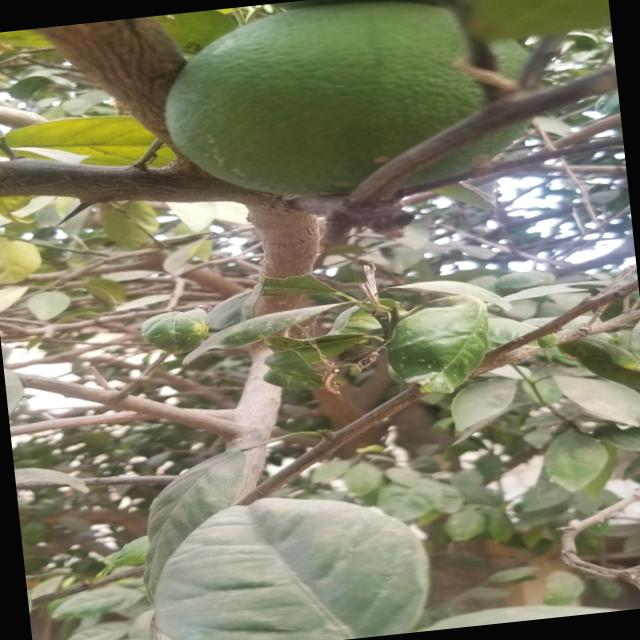Unripe: (164, 0, 521, 237)
